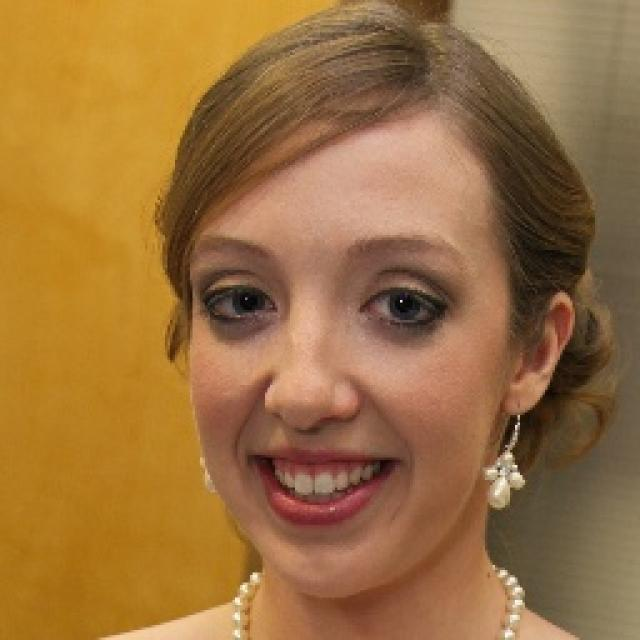earlobe: (498, 290, 574, 420)
